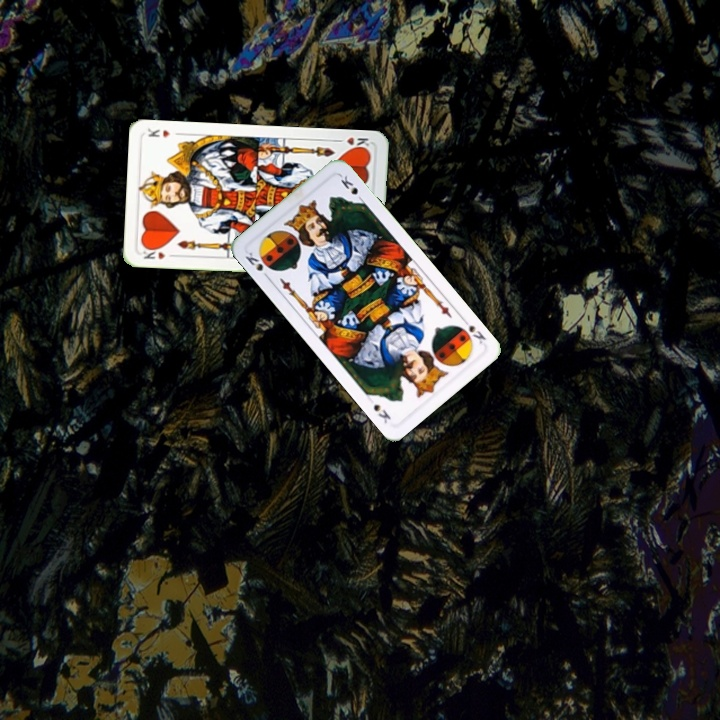HK: (332, 133, 372, 153), (138, 243, 178, 262)
SK: (241, 248, 275, 282), (458, 315, 489, 346)
